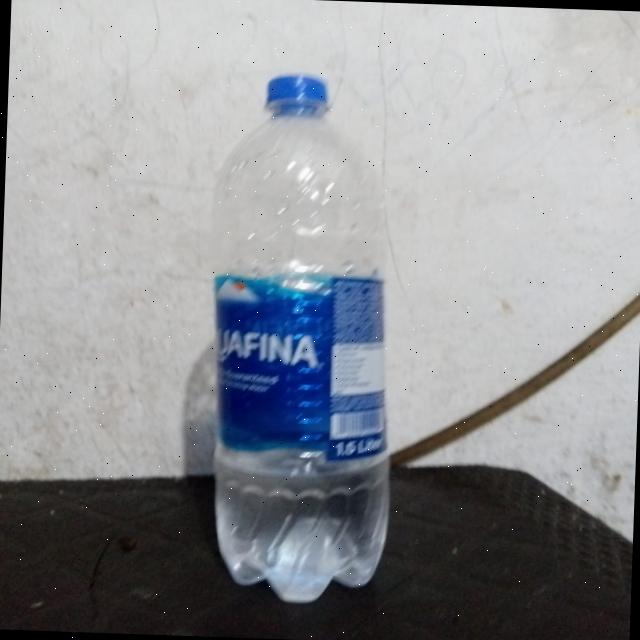bottle: (185, 52, 422, 612)
cap: (256, 64, 344, 119)
label: (196, 258, 404, 466)
